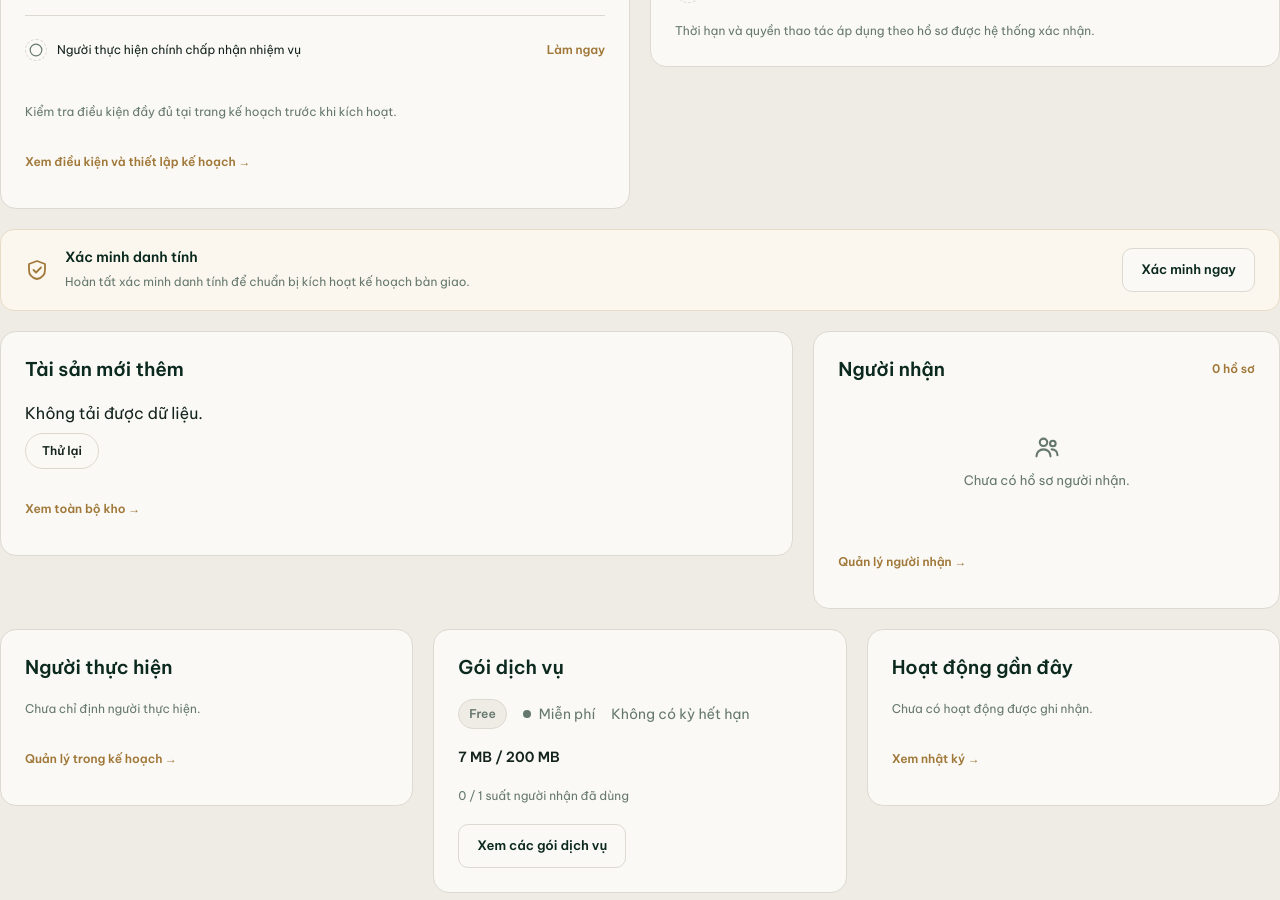
Test case: Owner dashboard from server metadata › keeps storage visible when the assets endpoint fails and offers retry
(page scrolled)
Check: the message shows "Không tải được dữ liệu", box x1=25 y1=403 x2=203 y2=423
Check: the text "Kho chưa có tài sản." is not shown
Click the button "Thử lại" at [62, 451], box x1=25 y1=433 x2=99 y2=469
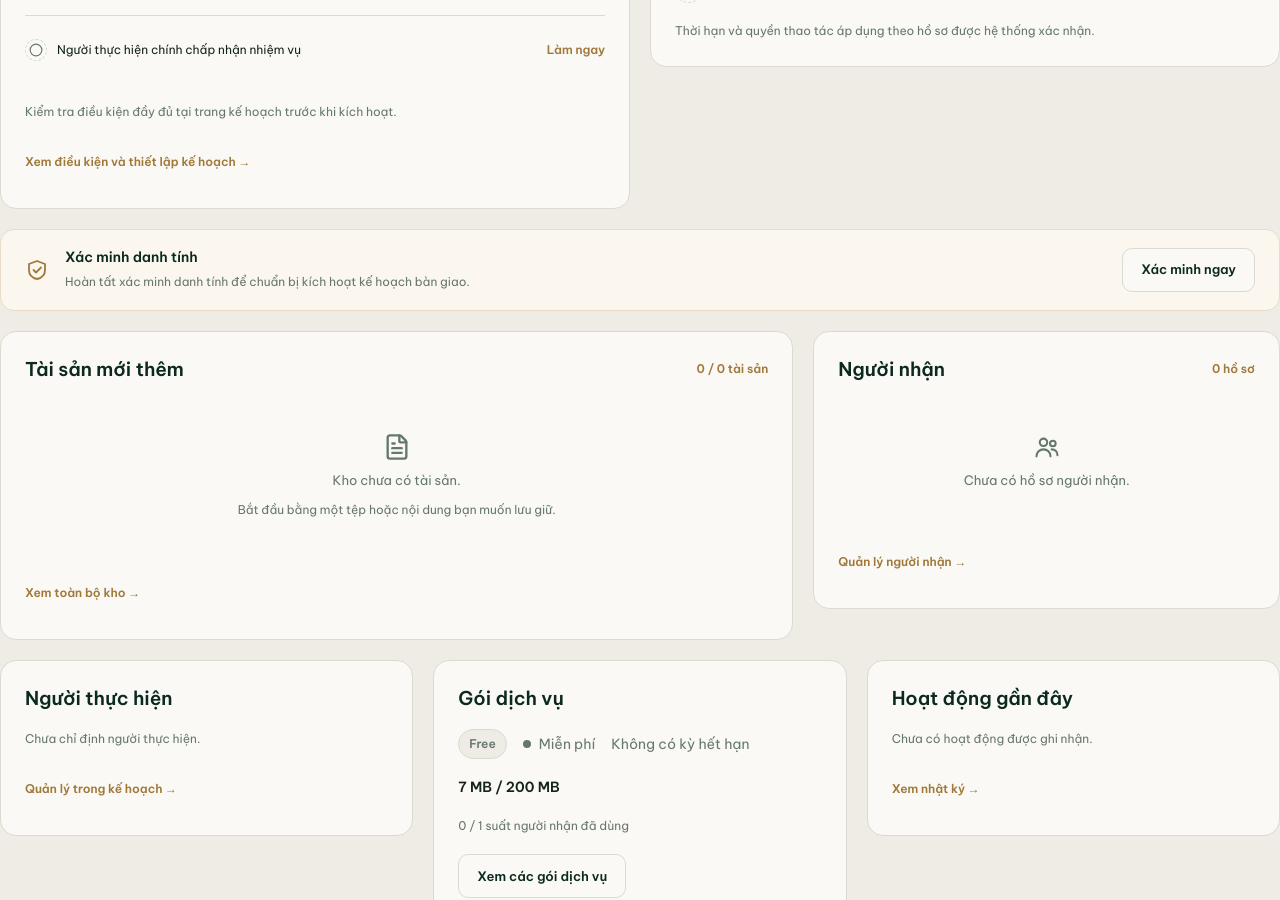
Check: the text "Kho chưa có tài sản." is shown, box x1=333 y1=471 x2=461 y2=490
